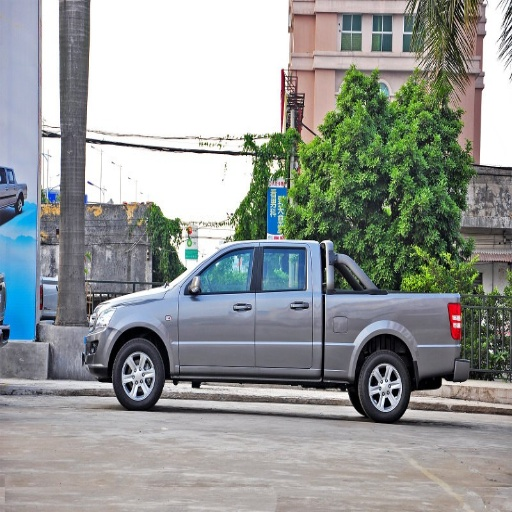back_glass: (256, 244, 313, 367)
front_glass: (180, 245, 257, 366)
tailgate: (320, 296, 459, 382)
trunk: (355, 349, 410, 422), (113, 339, 162, 409)
